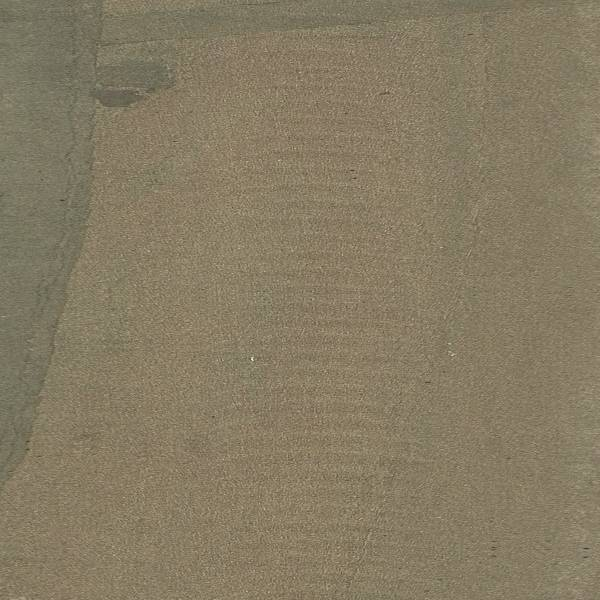road_damage: (78, 42, 185, 117)
